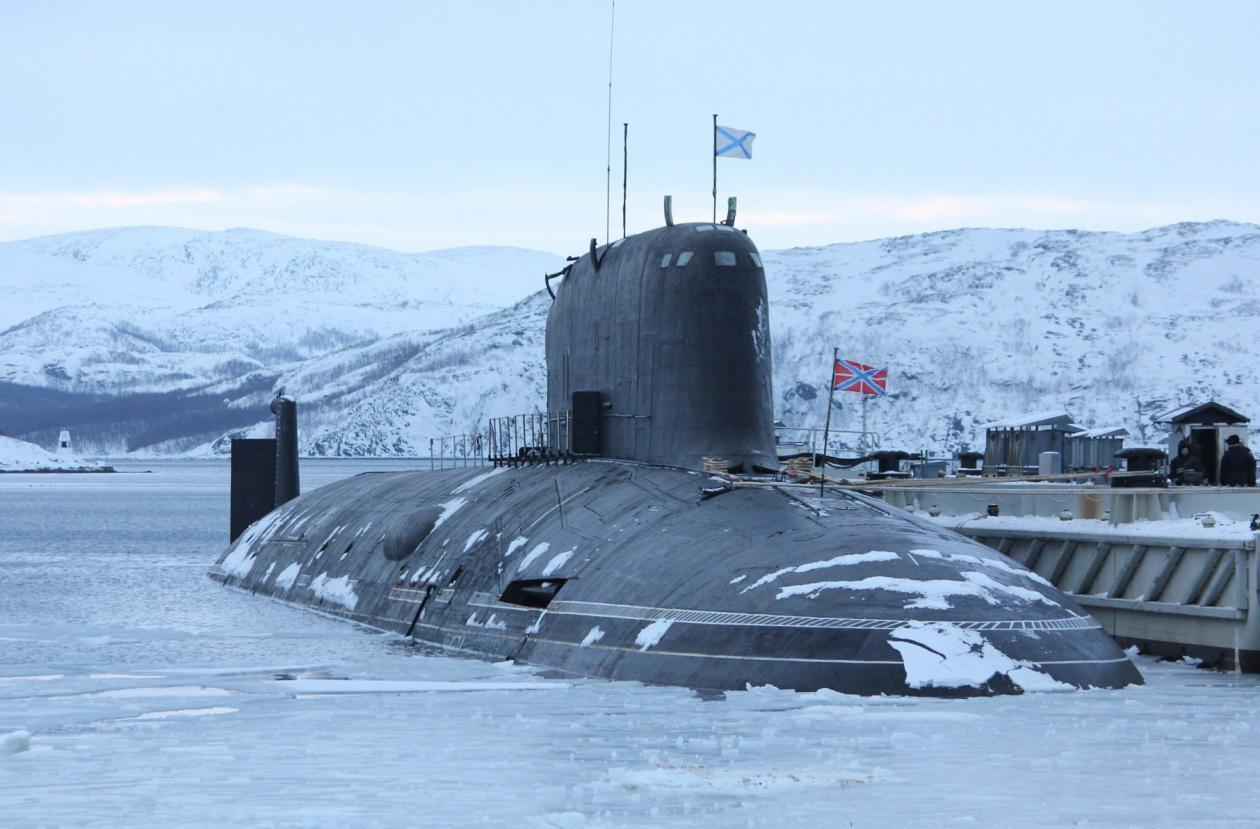Submarine: (116, 136, 1184, 821)
